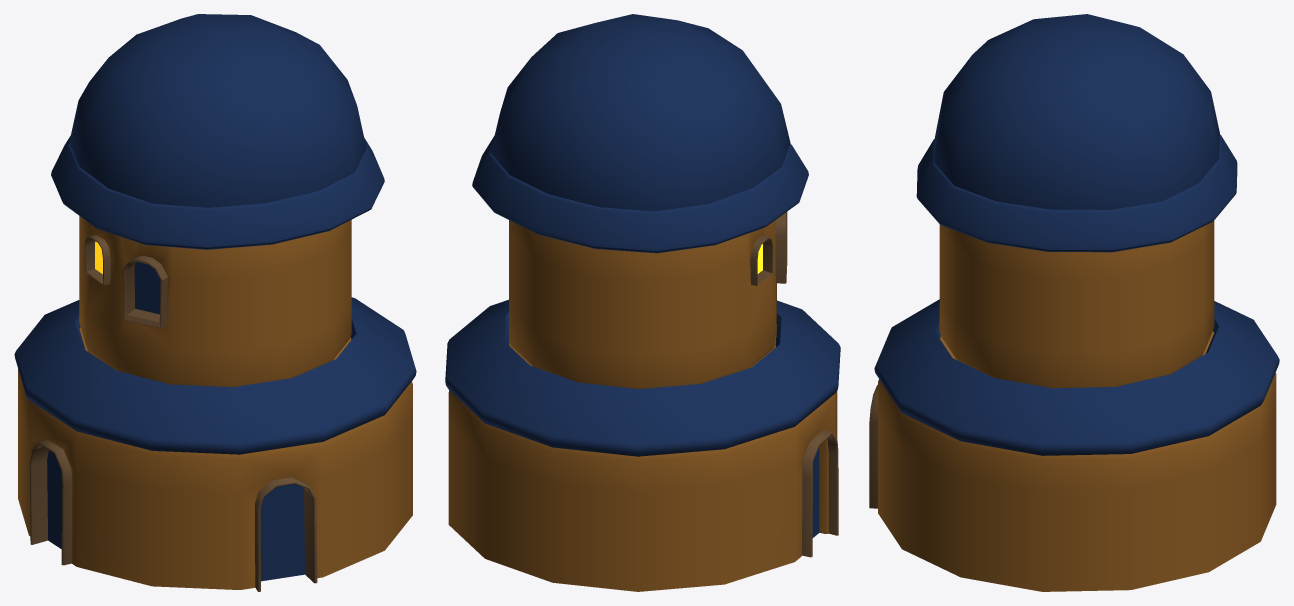
The model's file is RoundHouse.FBX.
The picture shows the model from 3 angles, left to right: view 1: azimuth 30°, elevation 25°; view 2: azimuth 150°, elevation 25°; view 3: azimuth 270°, elevation 25°; orthographic projection.
Parts seen in each view (by area): view 1: RoundHouse; view 2: RoundHouse; view 3: RoundHouse.
Boxes of the visible parts, <box> form: RoundHouse: <box>14,14,416,591</box>; RoundHouse: <box>445,14,840,591</box>; RoundHouse: <box>869,14,1279,591</box>.
Bounding box in the file's own units: 149 × 194 × 150.
